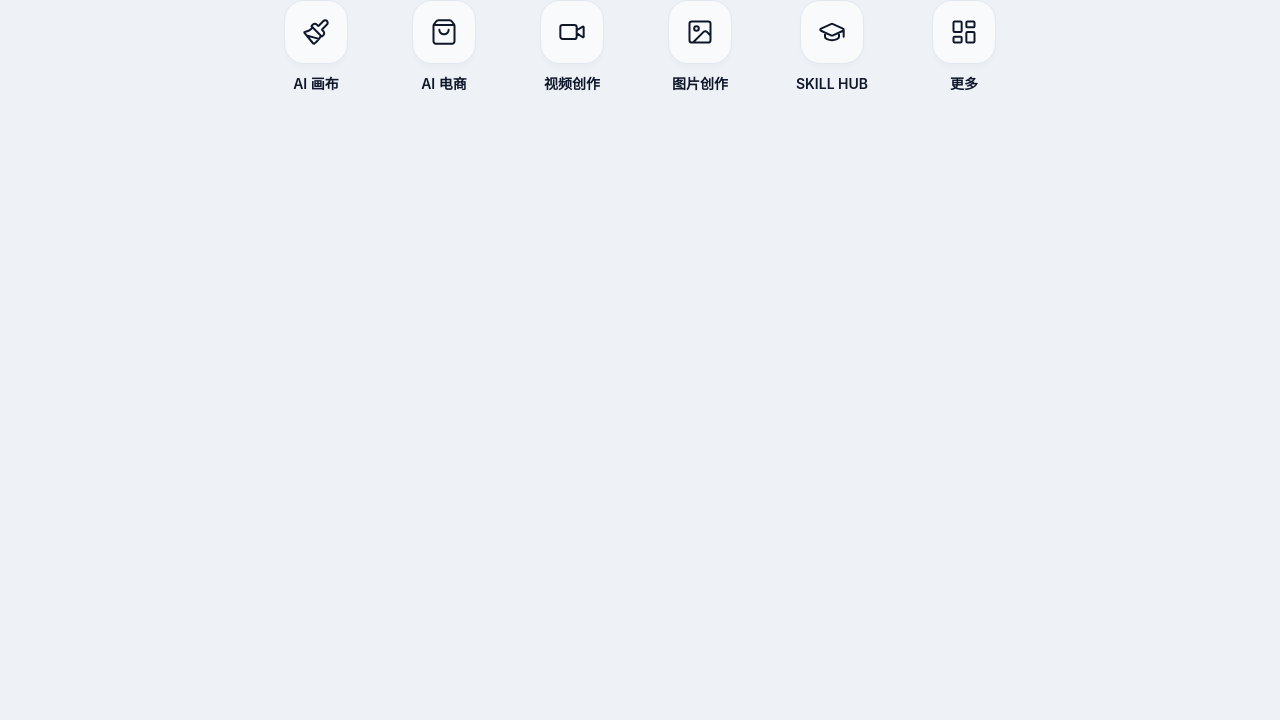
FeaturesRow › opens the create canvas modal from 图片创作
The width and height of the screenshot is (1280, 720).
Click the button "图片创作" at (700, 46), box [668, 0, 732, 93]
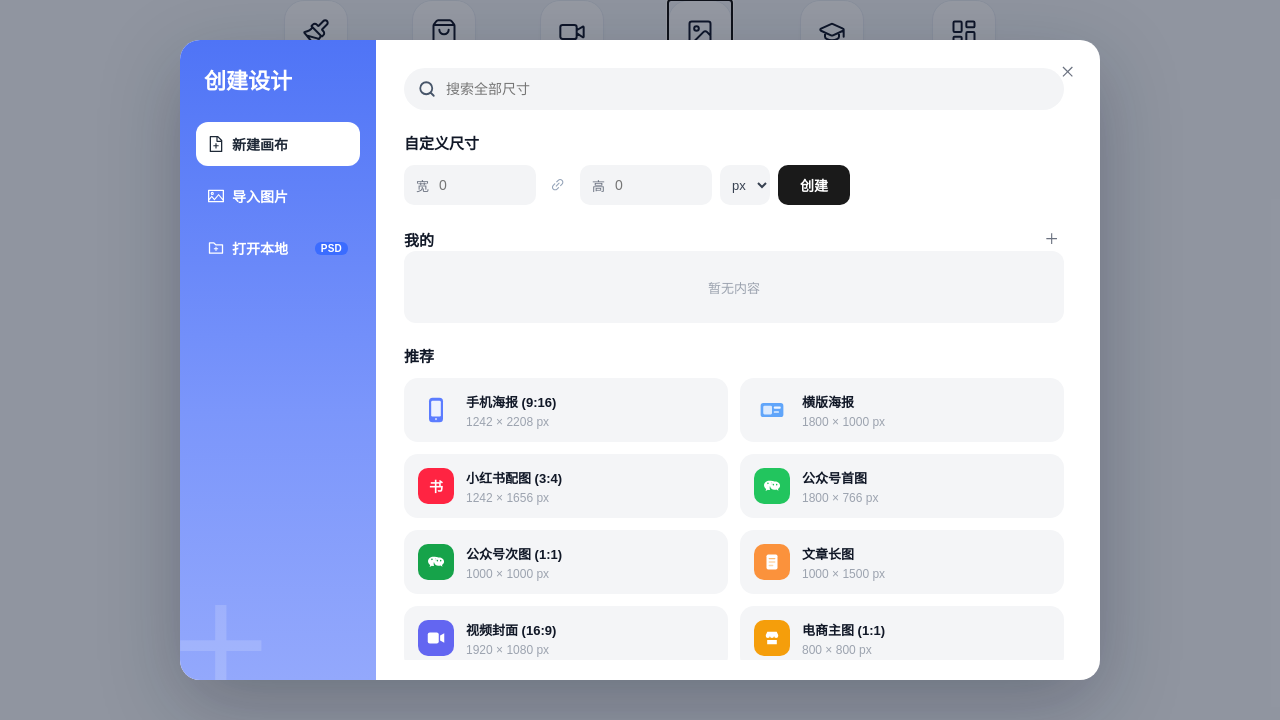
Result: the dialog "创建设计" is shown
